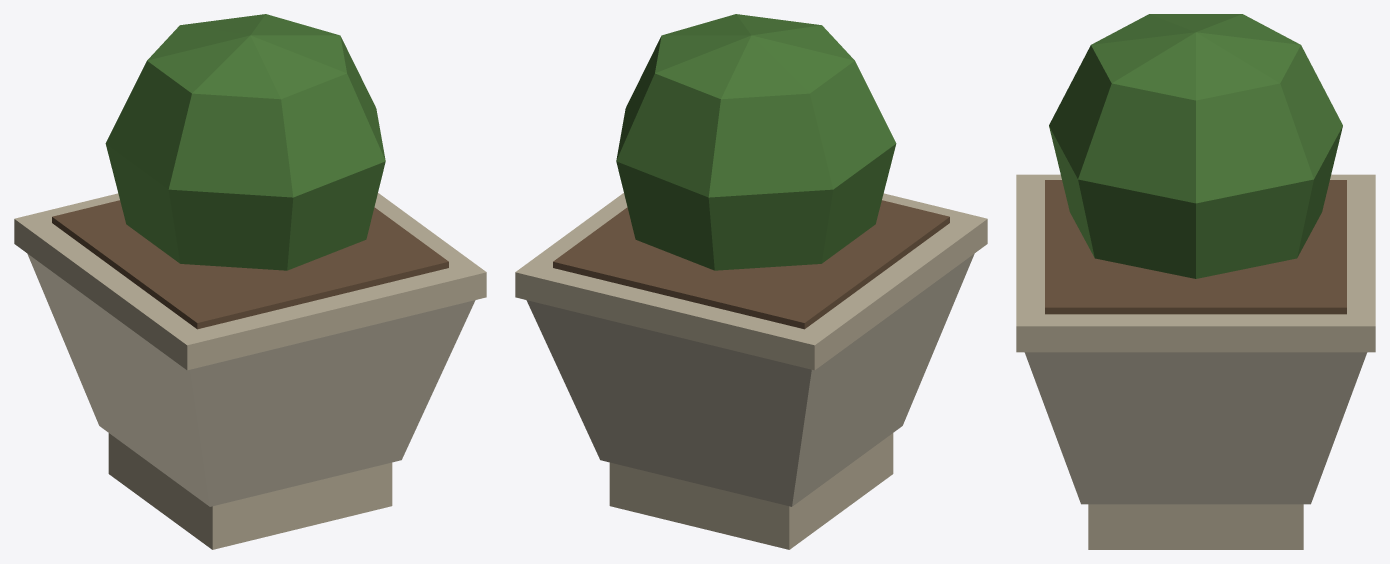
Rendered from life_planter.glb.
3 views of the same model, side by side, from view 1: azimuth 30°, elevation 25°; view 2: azimuth 150°, elevation 25°; view 3: azimuth 270°, elevation 25° (orthographic). The views are drawn at different scales.
Parts seen in each view (by area): view 1: life_planter; view 2: life_planter; view 3: life_planter.
Part boxes in pixels (box(x1,y1,x2,y2)): life_planter: box(14, 14, 486, 549); life_planter: box(515, 14, 987, 549); life_planter: box(1016, 14, 1375, 549).
Bounding box in the file's own units: 1 × 1.45 × 1.
